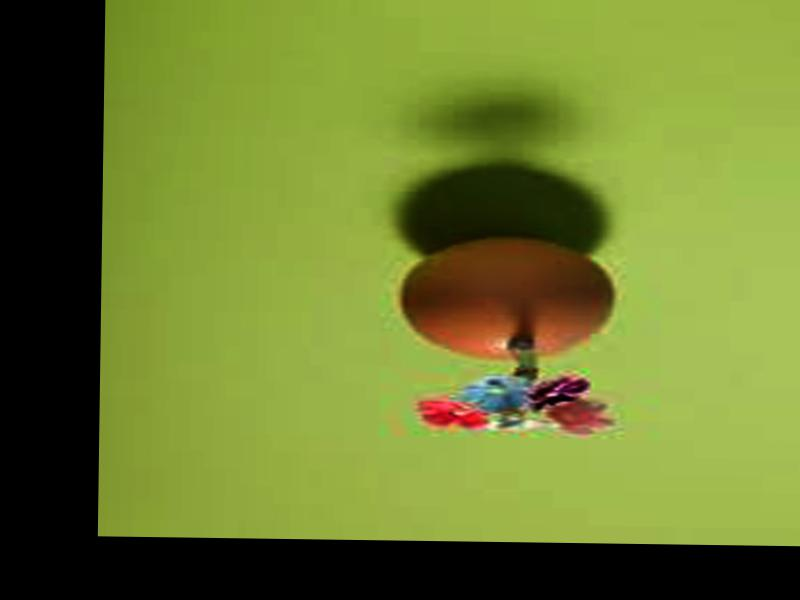Eggs: (402, 234, 614, 359)
